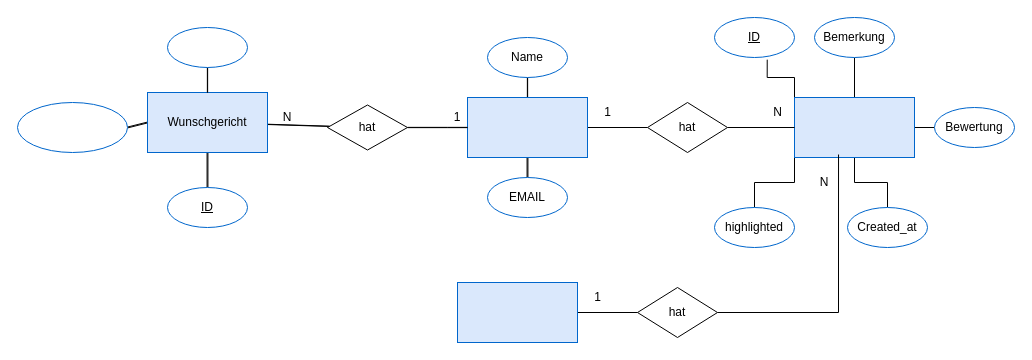
Some shapes in this 1032 by 360 pixel diagram are drawn without their labels. The centre of each missing label's shape, as x and y in pixels:
"Benutzer" goes at point (527, 127).
"Bewertungen" goes at point (854, 127).
"Erstellungsdatum" goes at point (72, 127).
"Gericht" goes at point (517, 312).
"Gerichtname" goes at point (207, 47).
